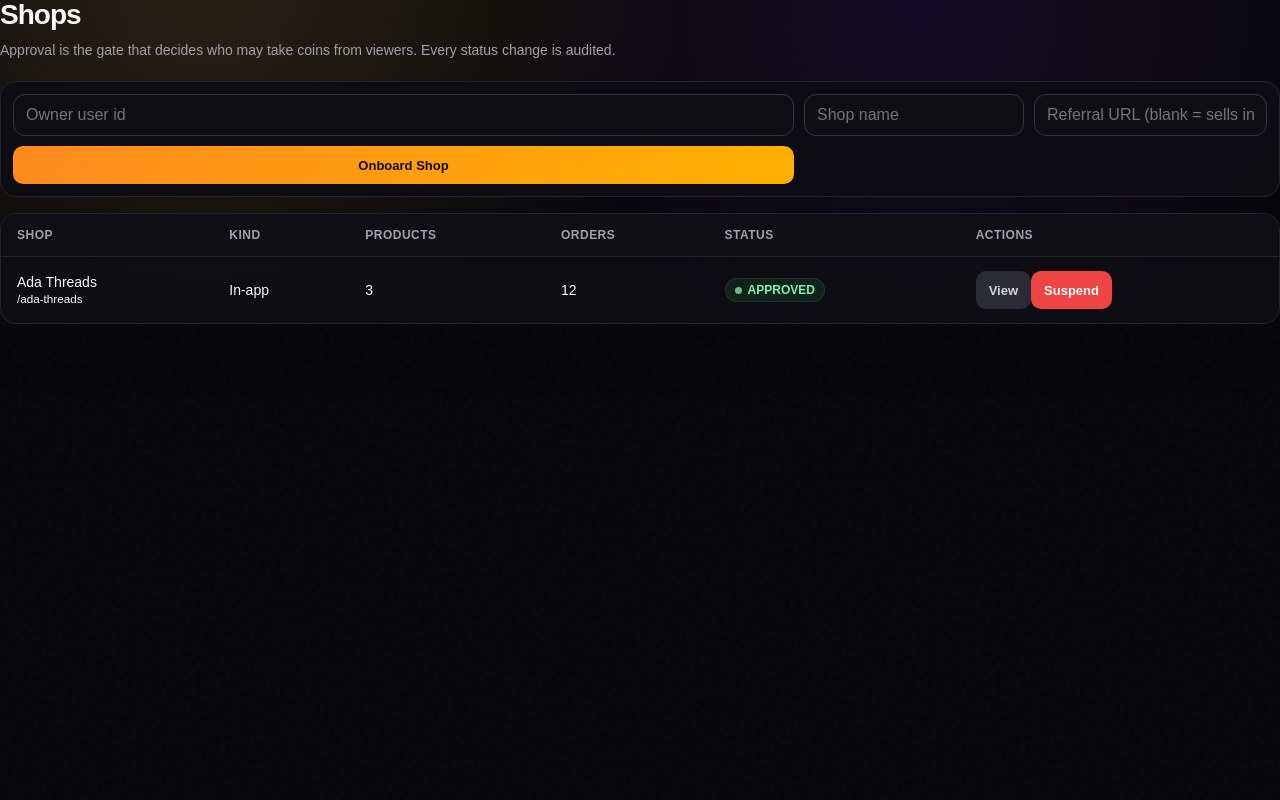
Scenario: ShopsPage › detail: owner with neither profile nor email falls back to the user id
Expected: the text "Ada Threads" is shown, [17,274,97,290]
Click the button "View" at point(1003, 290), box [976,271,1031,309]
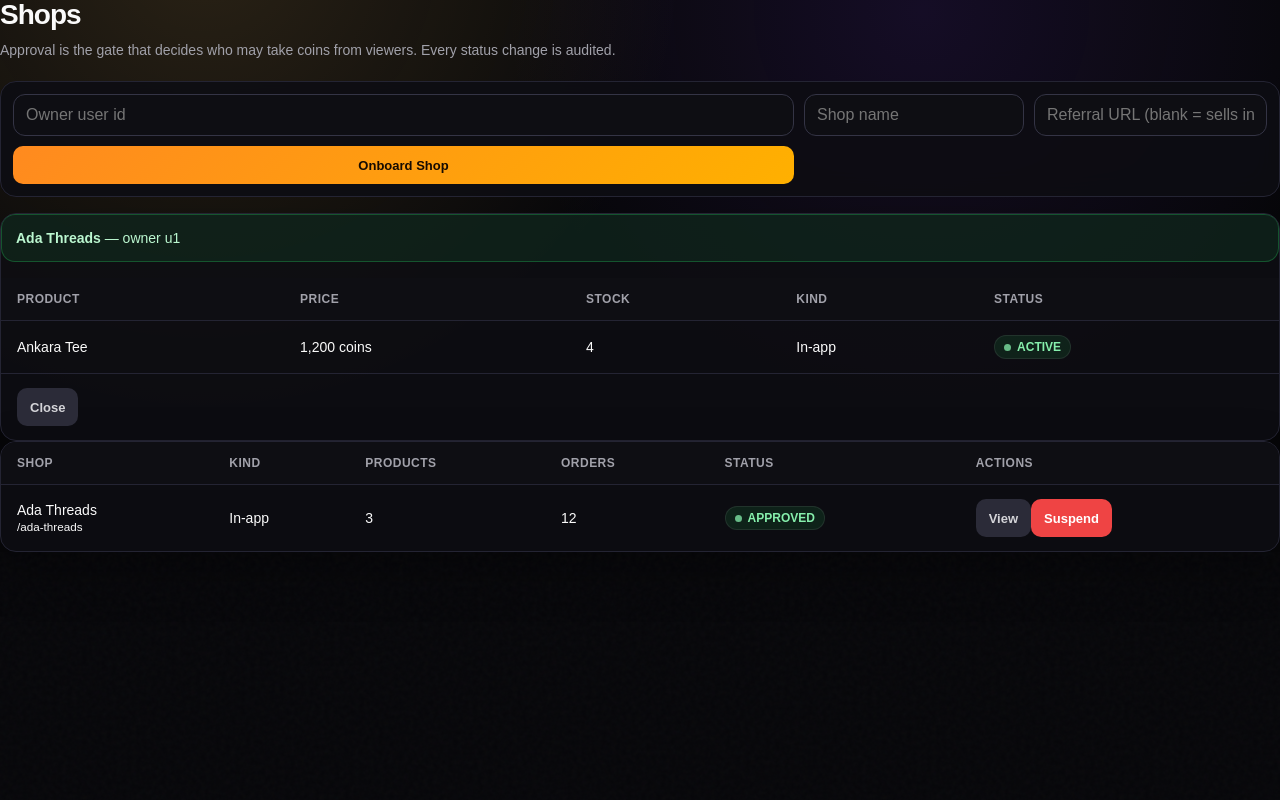
Now the text "Ada Threads — owner u1" is shown, box [1,214,1279,262]
